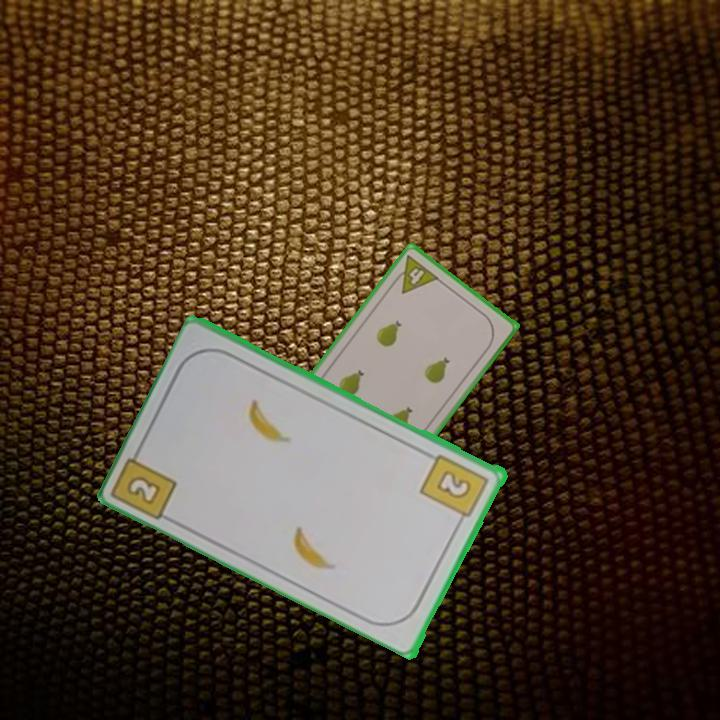2b: (417, 450, 492, 528), (111, 442, 181, 523)
4p: (387, 251, 442, 297)
